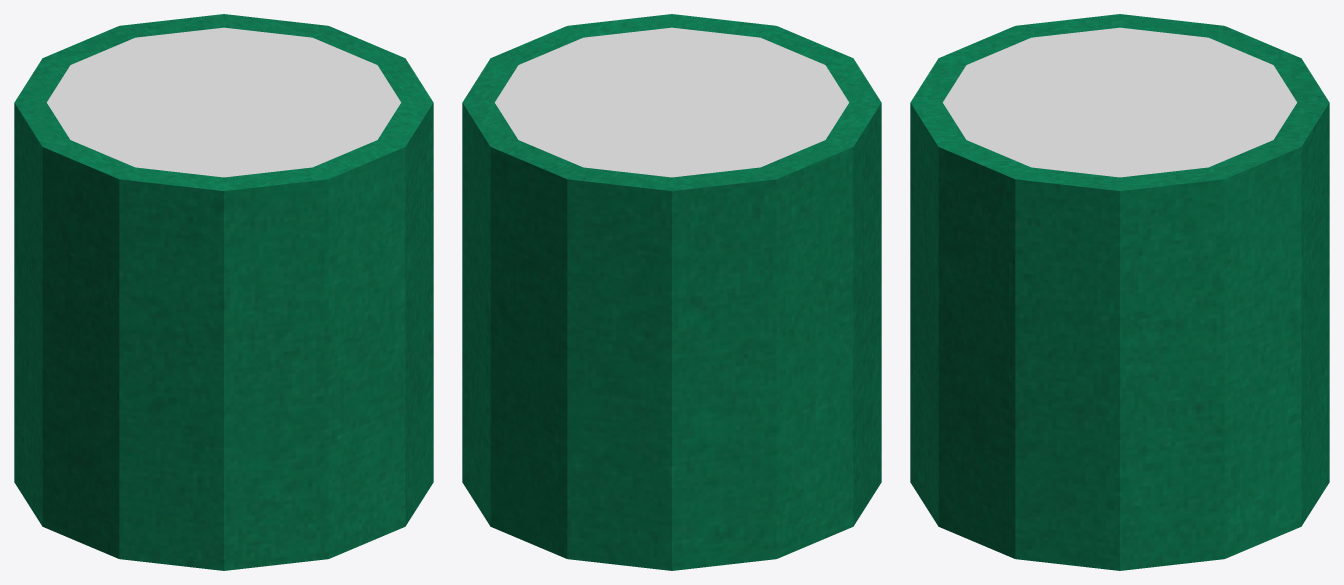
Rendered from sundial colored player frame.fbx.
3 views of the same model, side by side, from view 1: azimuth 30°, elevation 25°; view 2: azimuth 150°, elevation 25°; view 3: azimuth 270°, elevation 25° (orthographic).
Visible parts, largest first — view 1: Cylinder.004; view 2: Cylinder.004; view 3: Cylinder.004.
Part boxes in pixels (x1,y1,x2,y2): Cylinder.004: [14, 14, 433, 570]; Cylinder.004: [462, 14, 881, 570]; Cylinder.004: [910, 14, 1329, 570].
Size of the model in its own units: 67.26 by 67.26 by 67.26.
2 materials, 1 textured.
